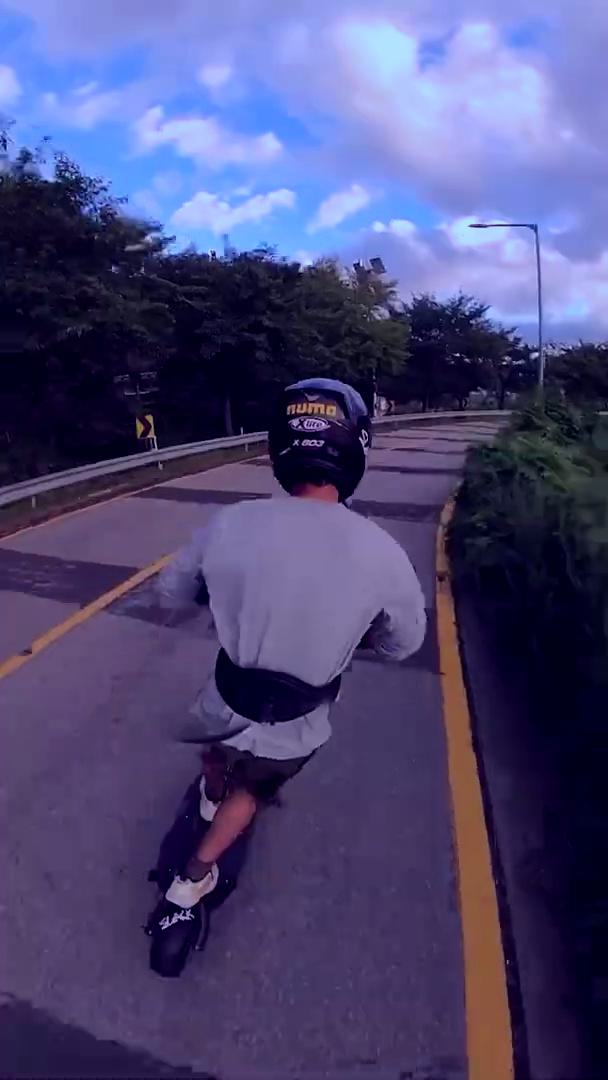helmet: (142, 375, 430, 981)
